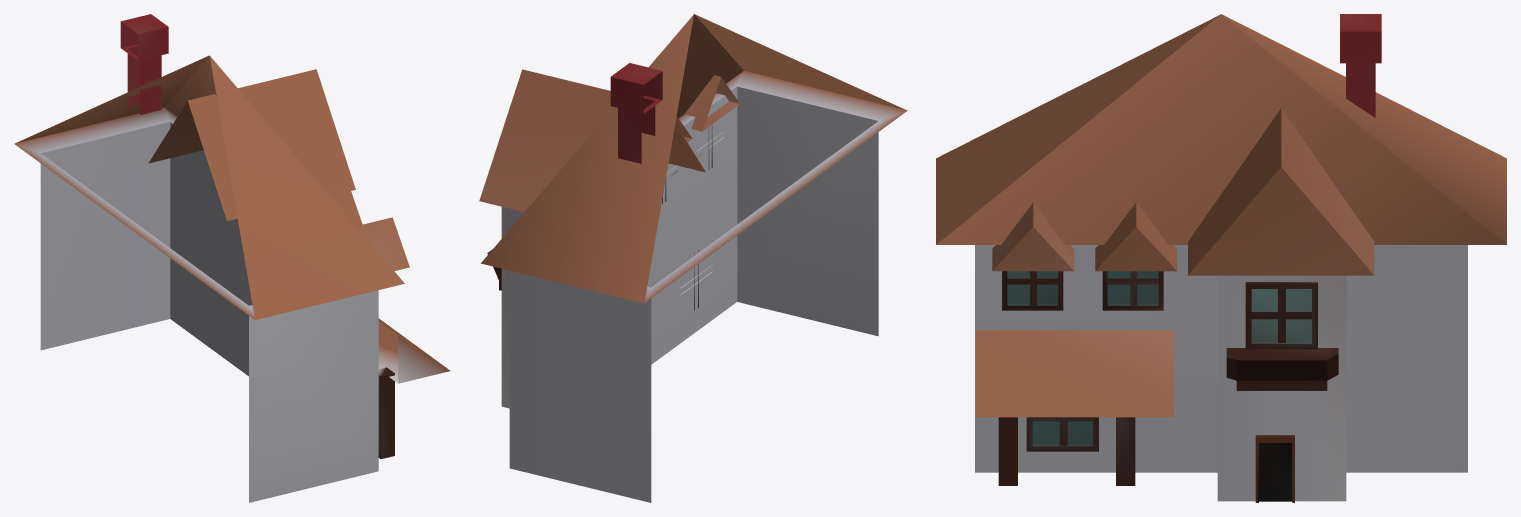
The model's file is Casa1.fbx.
The picture shows the model from 3 angles, left to right: view 1: azimuth 30°, elevation 25°; view 2: azimuth 150°, elevation 25°; view 3: azimuth 270°, elevation 25°; orthographic projection. The views are drawn at different scales.
Parts seen in each view (by area): view 1: CasaSuburbana1; view 2: CasaSuburbana1; view 3: CasaSuburbana1.
Part boxes in pixels (box(x1,y1,x2,y2)): CasaSuburbana1: box(14, 14, 450, 502); CasaSuburbana1: box(479, 14, 907, 502); CasaSuburbana1: box(936, 14, 1506, 502).
Bounding box in the file's own units: 2031 × 3142 × 3860.
